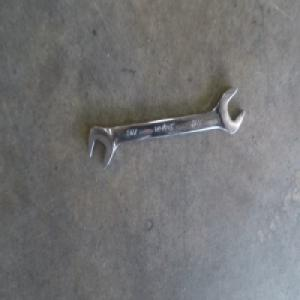Wrench: (89, 84, 244, 167)
